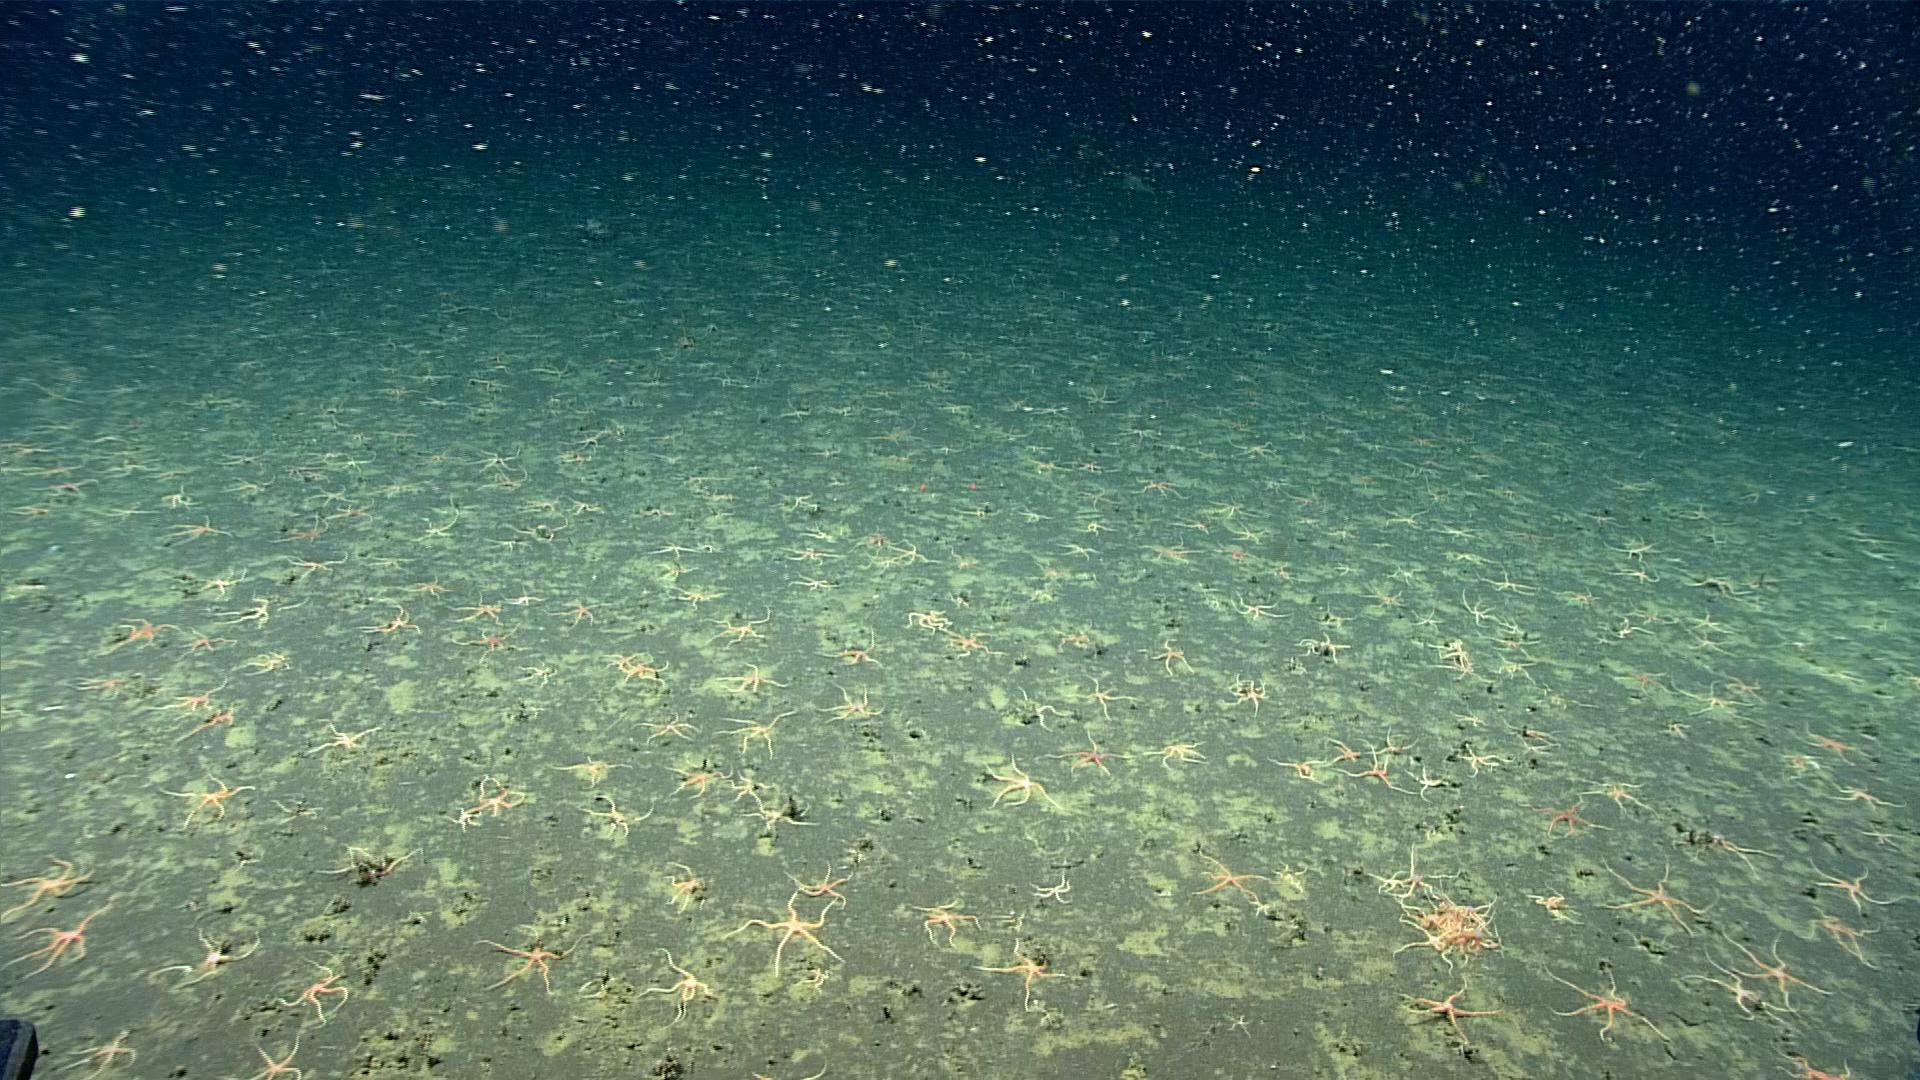brittle_sea_star: (711, 890, 851, 972), (1717, 923, 1837, 1018), (1543, 963, 1669, 1042), (1597, 855, 1720, 935), (1680, 942, 1795, 1022), (459, 927, 575, 1000), (12, 901, 111, 985), (1400, 978, 1503, 1052), (146, 927, 261, 992), (972, 935, 1068, 1011), (266, 960, 353, 1035), (5, 848, 96, 916), (632, 951, 709, 1030), (152, 773, 257, 828), (1805, 909, 1888, 973), (316, 840, 423, 889), (1804, 855, 1887, 915), (1048, 727, 1134, 785), (980, 750, 1062, 810), (1667, 673, 1754, 723), (712, 711, 796, 762), (1691, 829, 1782, 877), (49, 1026, 137, 1075), (91, 611, 178, 659), (1188, 851, 1270, 902), (1523, 789, 1614, 835), (1332, 748, 1415, 798), (1393, 844, 1461, 902), (299, 715, 381, 761), (779, 857, 853, 907), (907, 895, 981, 944), (1064, 675, 1133, 725), (237, 1031, 307, 1079), (580, 796, 654, 841), (1389, 915, 1453, 965), (144, 673, 225, 712), (1797, 723, 1873, 765), (661, 754, 731, 799), (167, 704, 232, 750), (705, 604, 771, 649), (450, 624, 529, 661), (811, 682, 884, 721), (264, 509, 335, 547), (1002, 684, 1058, 733), (815, 630, 884, 669), (549, 753, 628, 786), (161, 510, 231, 547), (649, 862, 696, 915), (629, 711, 702, 745), (721, 659, 789, 696), (1590, 775, 1658, 812), (274, 550, 349, 583), (1830, 783, 1905, 816), (1768, 1051, 1855, 1079), (741, 795, 807, 831), (1025, 860, 1075, 906), (1526, 878, 1572, 928), (1135, 735, 1204, 767), (355, 605, 421, 638), (935, 626, 1001, 659), (1361, 724, 1423, 758), (496, 516, 571, 543), (612, 654, 673, 688), (208, 595, 269, 629), (1138, 637, 1192, 675), (1224, 674, 1273, 716), (1265, 746, 1327, 779), (174, 625, 233, 659), (1681, 570, 1751, 599), (469, 778, 522, 816), (446, 597, 506, 630), (542, 597, 611, 626), (193, 564, 255, 596), (1139, 538, 1204, 568), (1229, 591, 1286, 625), (229, 647, 290, 679), (1295, 628, 1350, 662), (1458, 589, 1510, 626), (1478, 567, 1535, 600), (727, 766, 770, 807), (1605, 533, 1663, 563), (1414, 761, 1457, 800), (66, 671, 128, 699), (771, 543, 841, 567), (1457, 740, 1502, 777), (398, 571, 458, 599), (902, 605, 951, 638), (886, 537, 935, 568), (1429, 653, 1485, 680), (645, 538, 705, 563), (1490, 653, 1540, 683), (1320, 735, 1366, 766), (1849, 820, 1905, 845), (1482, 630, 1539, 655), (415, 510, 459, 542), (1357, 583, 1408, 609), (670, 582, 724, 607), (1050, 626, 1093, 657), (465, 448, 520, 472), (1205, 493, 1259, 517), (1222, 520, 1273, 545), (1127, 475, 1180, 498), (782, 571, 837, 593), (1381, 508, 1425, 535), (322, 500, 373, 524), (302, 481, 348, 508), (1172, 509, 1217, 533), (1366, 866, 1404, 894), (1514, 721, 1556, 746), (1607, 566, 1658, 587), (559, 493, 603, 517), (1688, 634, 1731, 658), (1432, 521, 1476, 545), (1557, 588, 1598, 613), (1313, 603, 1350, 629), (1443, 550, 1491, 570), (1425, 630, 1468, 653), (1218, 1011, 1255, 1036), (442, 808, 481, 831), (1058, 541, 1098, 562), (1689, 611, 1724, 636), (1410, 607, 1445, 630), (1387, 558, 1423, 582), (1609, 620, 1648, 641), (1655, 719, 1692, 740), (1014, 506, 1052, 526), (1075, 517, 1112, 535), (1664, 609, 1688, 633), (1493, 616, 1527, 632), (1333, 558, 1358, 576)
